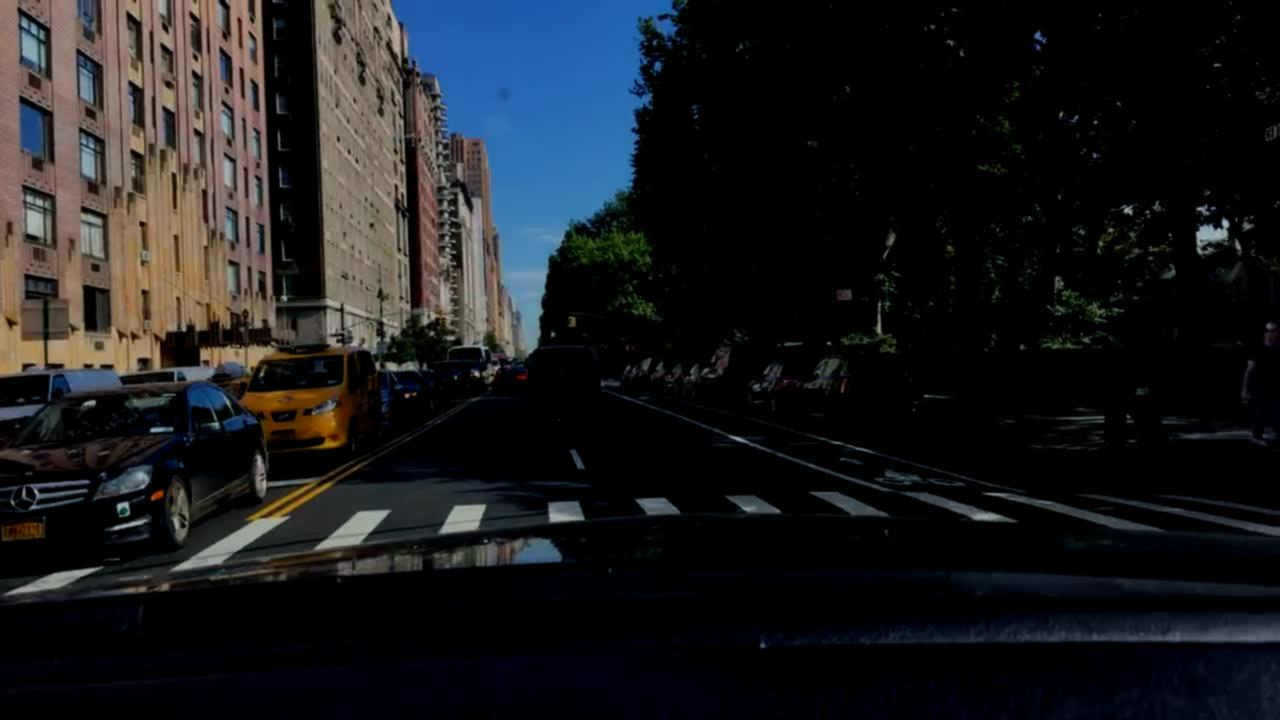Mercedes: (3, 479, 48, 521)
